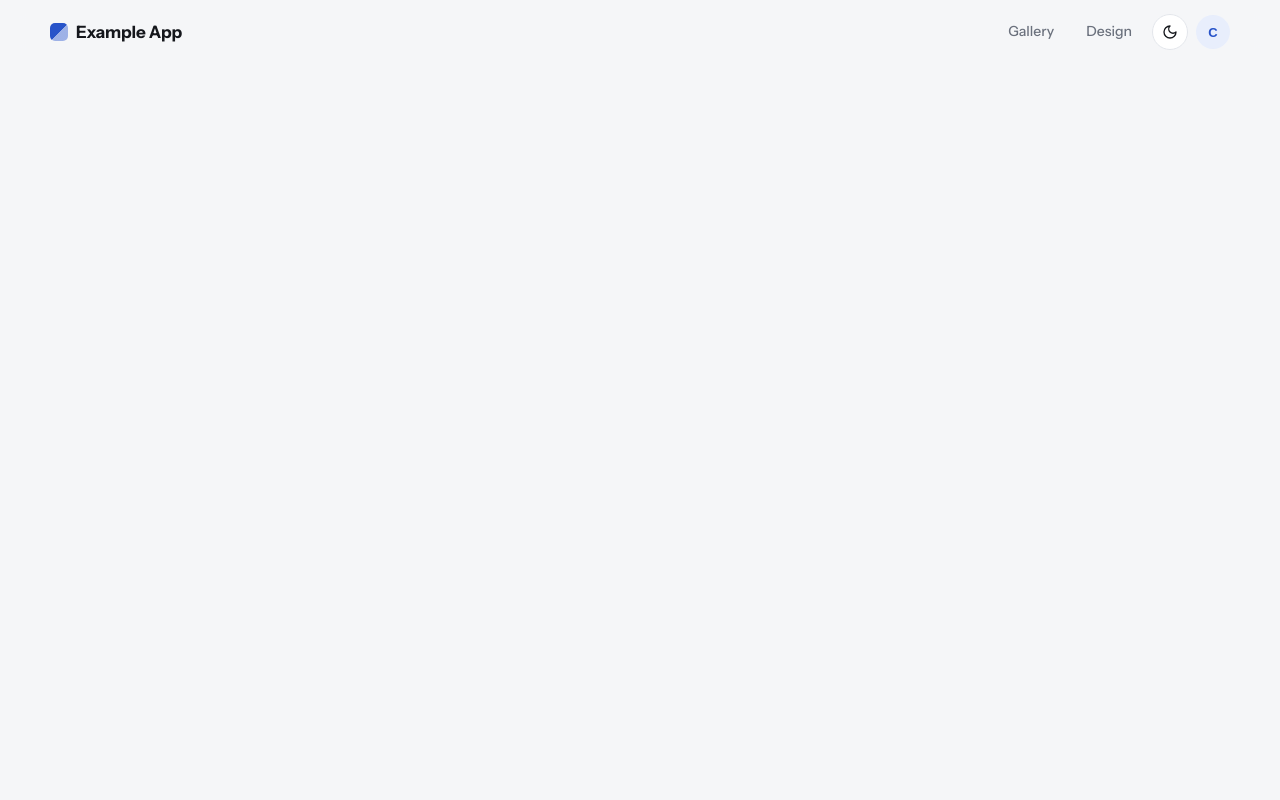
Test: NavBar › identifies the caller by username, with their email beneath it
The width and height of the screenshot is (1280, 800).
Click the button named "Account". click: coordinates (1213, 32)
box: [1196,15,1230,49]
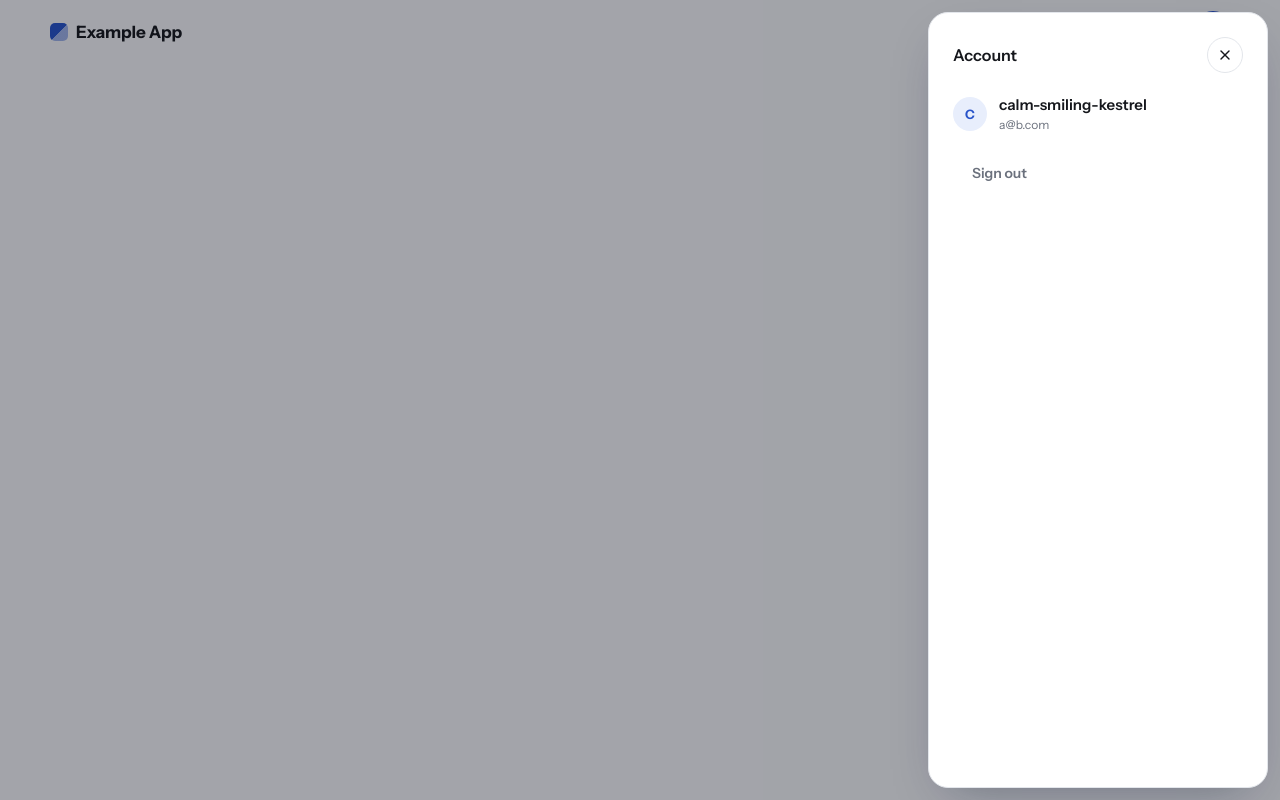
Now the text "calm-smiling-kestrel" is shown, box [999,93,1147,116]
Now the text "a@b.com" is shown, box [999,117,1049,132]
